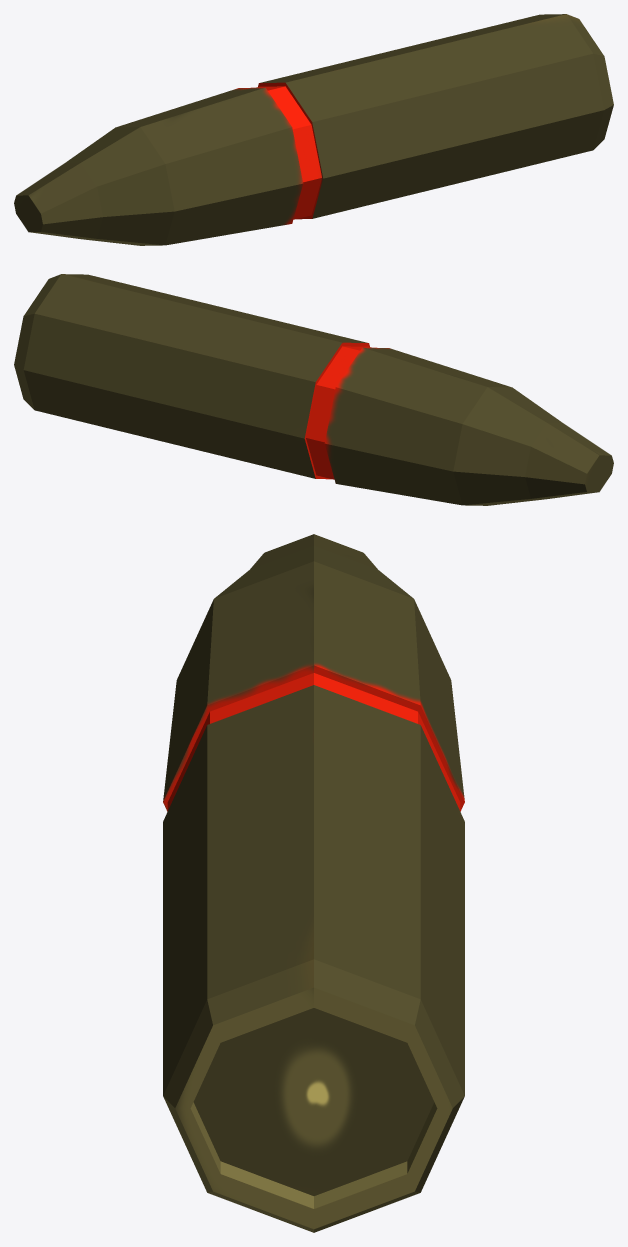
Rendered from Ammo(AK).fbx.
3 views of the same model, one above another, from view 1: azimuth 30°, elevation 25°; view 2: azimuth 150°, elevation 25°; view 3: azimuth 270°, elevation 25° (orthographic). The views are drawn at different scales.
Visible parts, largest first — view 1: Ammo(AK)(BackUP); view 2: Ammo(AK)(BackUP); view 3: Ammo(AK)(BackUP).
Part boxes in pixels (left/top/right/bottom): Ammo(AK)(BackUP): left=14, top=14, right=613, bottom=245; Ammo(AK)(BackUP): left=14, top=274, right=613, bottom=505; Ammo(AK)(BackUP): left=163, top=534, right=464, bottom=1232.
Size of the model in its own units: 12.2 by 2.9 by 2.9.
Materials: 1 (1 with a texture image).
